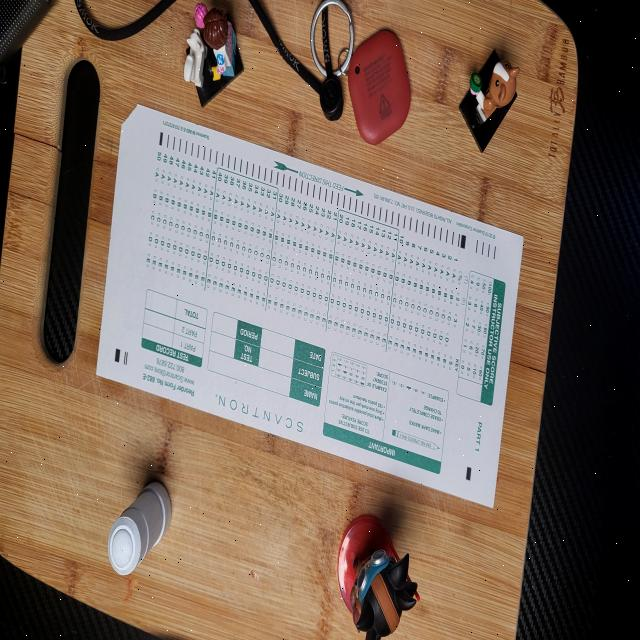scantron: (96, 102, 524, 509)
